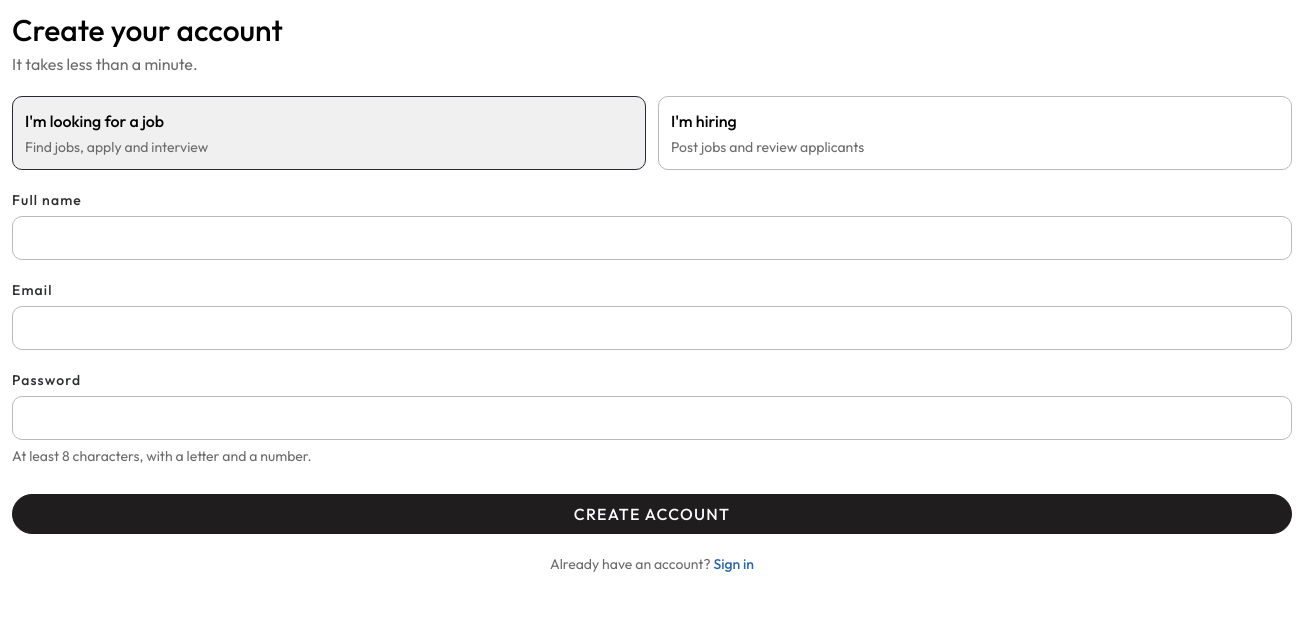
Test: RegisterForm › explains password rules
The image size is (1304, 641).
Type "short" into the password field labelled "Password" at (652, 418), box x1=12 y1=396 x2=1292 y2=440
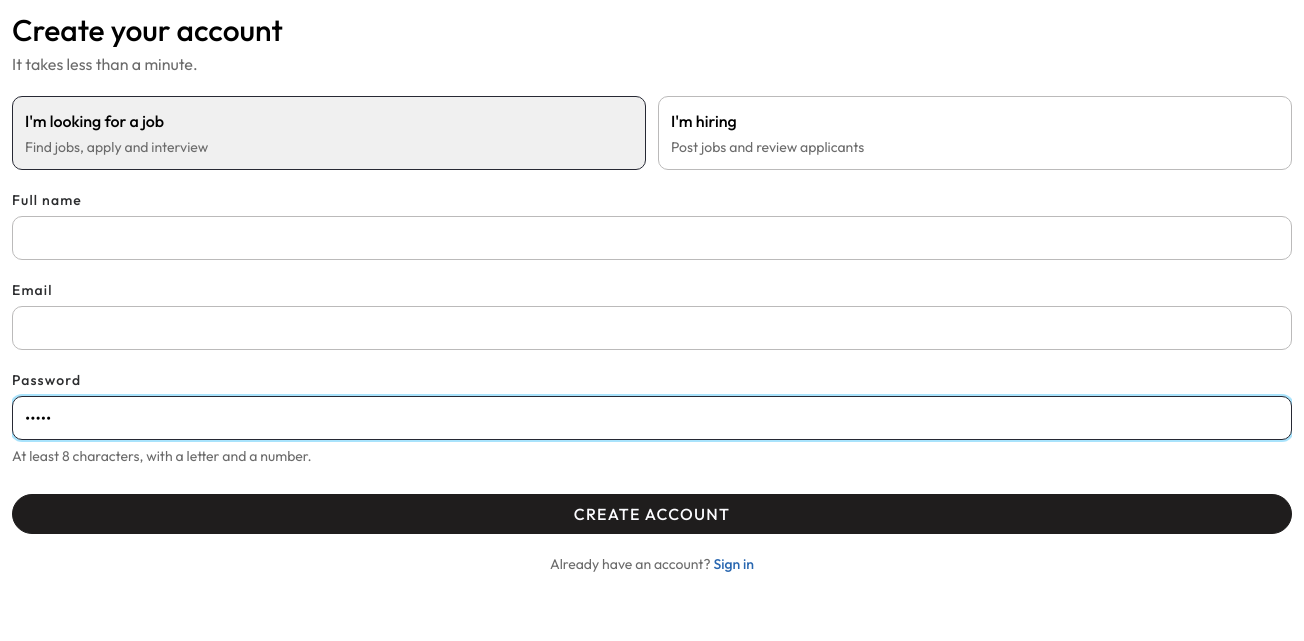
Click the button "Create account" at (652, 514), box x1=12 y1=494 x2=1292 y2=534
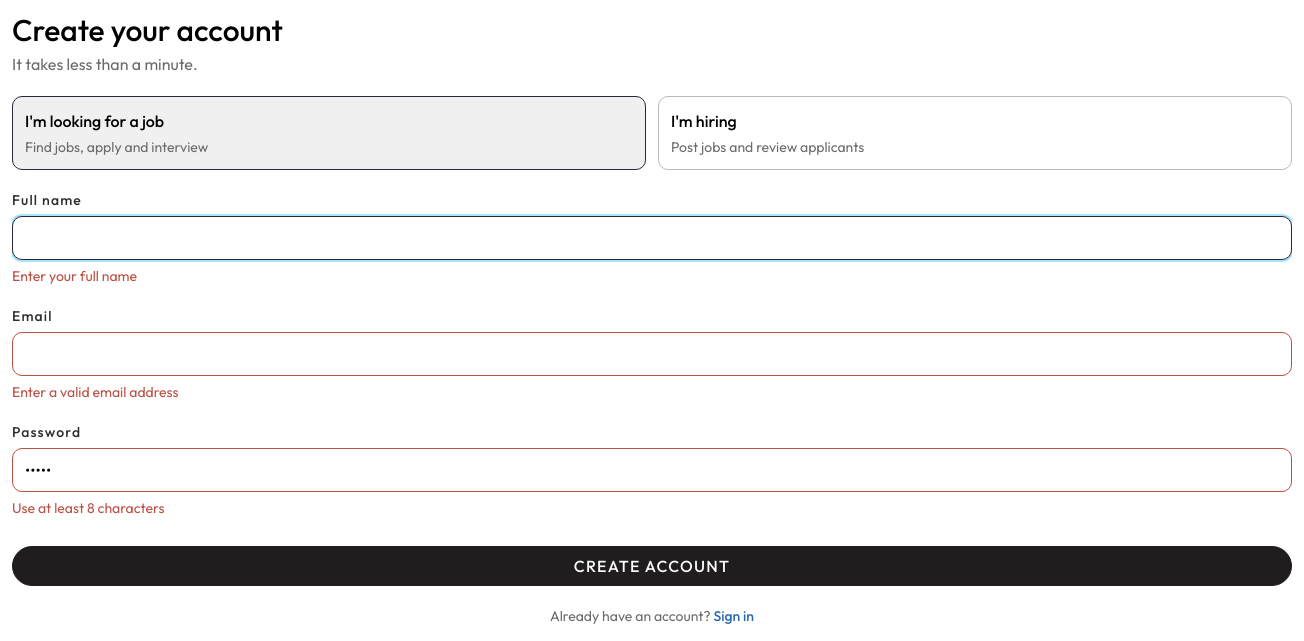
Now the text "Use at least 8 characters" is shown, box x1=12 y1=499 x2=164 y2=517
